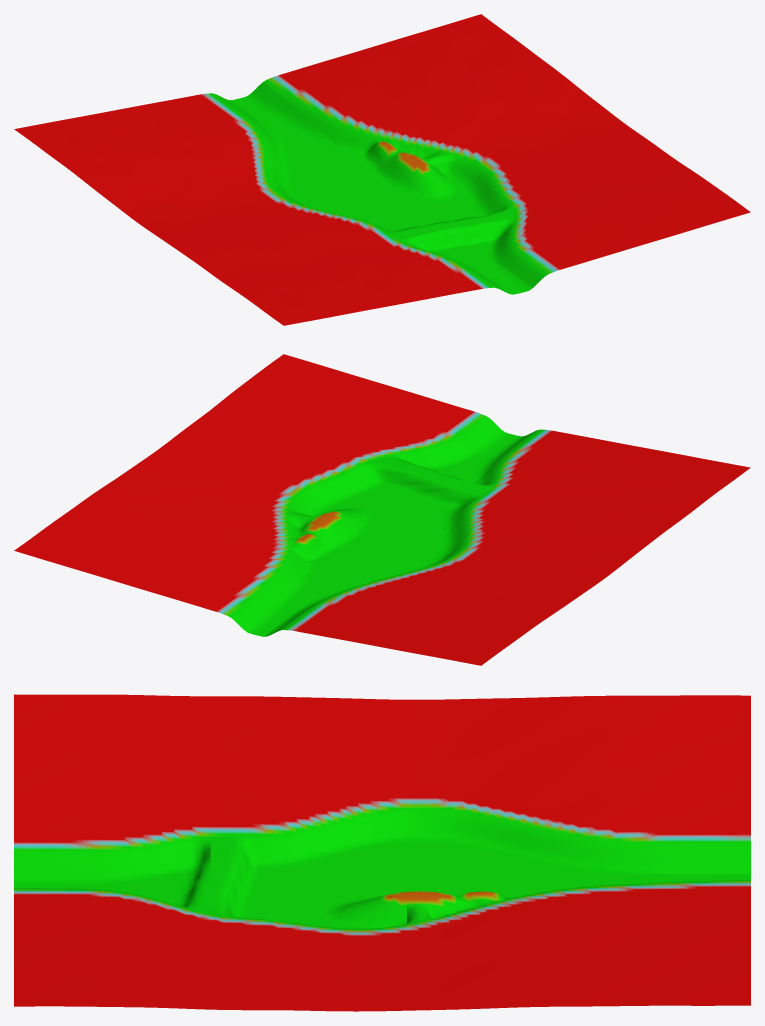
Rendered from river_terrain.glb.
3 renders of one model, top to bottom at view 1: azimuth 30°, elevation 25°; view 2: azimuth 150°, elevation 25°; view 3: azimuth 270°, elevation 25°, orthographic. The views are drawn at different scales.
Parts seen in each view (by area): view 1: Terrain_07_11, Terrain_08_11, Terrain_08_04, Terrain_08_07, Terrain_08_03, Terrain_10_07, Terrain_08_14, Terrain_07_00, Terrain_07_01, Terrain_08_06, Terrain_08_13, Terrain_08_02 (+182 smaller); view 2: Terrain_08_12, Terrain_09_10, Terrain_08_10, Terrain_07_10, Terrain_08_06, Terrain_09_09, Terrain_08_13, Terrain_08_05, Terrain_10_08, Terrain_08_14, Terrain_06_10, Terrain_07_00 (+186 smaller); view 3: Terrain_06_01, Terrain_06_00, Terrain_06_02, Terrain_05_08, Terrain_05_05, Terrain_06_12, Terrain_05_04, Terrain_06_03, Terrain_06_11, Terrain_06_09, Terrain_05_07, Terrain_04_06 (+201 smaller).
Part boxes in pixels (x1,y1,x2,y2): Terrain_07_11: [430, 225, 478, 257]; Terrain_08_11: [461, 218, 509, 250]; Terrain_08_04: [335, 124, 383, 158]; Terrain_08_07: [389, 164, 437, 197]; Terrain_08_03: [317, 110, 365, 144]; Terrain_10_07: [451, 148, 500, 179]; Terrain_08_14: [515, 255, 563, 287]; Terrain_07_00: [232, 82, 280, 113]; Terrain_07_01: [250, 96, 298, 126]; Terrain_08_06: [371, 152, 419, 184]; Terrain_08_13: [497, 242, 545, 274]; Terrain_08_02: [299, 97, 347, 126]; Terrain_08_12: [417, 437, 465, 471]; Terrain_09_10: [350, 456, 397, 489]; Terrain_08_10: [381, 465, 429, 497]; Terrain_07_10: [412, 472, 460, 504]; Terrain_08_06: [309, 516, 357, 550]; Terrain_09_09: [332, 470, 380, 503]; Terrain_08_13: [435, 423, 483, 457]; Terrain_08_05: [291, 531, 339, 563]; Terrain_10_08: [283, 474, 331, 505]; Terrain_08_14: [453, 410, 501, 442]; Terrain_06_10: [443, 480, 491, 507]; Terrain_07_00: [232, 606, 280, 636]; Terrain_06_01: [652, 834, 701, 873]; Terrain_06_00: [702, 834, 750, 873]; Terrain_06_02: [603, 834, 652, 873]; Terrain_05_08: [308, 813, 357, 853]; Terrain_05_05: [456, 814, 505, 853]; Terrain_06_12: [112, 834, 161, 873]; Terrain_05_04: [505, 813, 554, 853]; Terrain_06_03: [554, 836, 603, 873]; Terrain_06_11: [161, 834, 210, 873]; Terrain_06_09: [259, 837, 308, 873]; Terrain_05_07: [358, 816, 406, 853]; Terrain_04_06: [407, 792, 456, 825].
Size of the model in its own units: 480 by 24.86 by 480.
